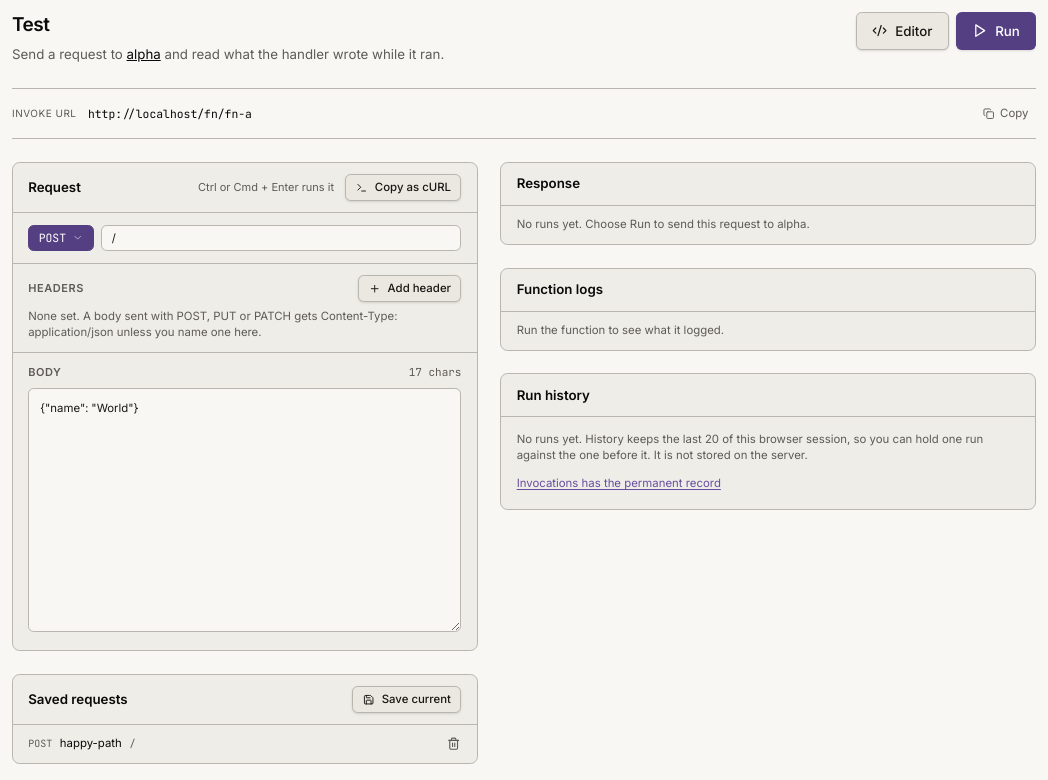
TestWorkbench › says a transport failure produced no execution record
Click the button "Run" at point(996, 31), box [956,12,1036,50]
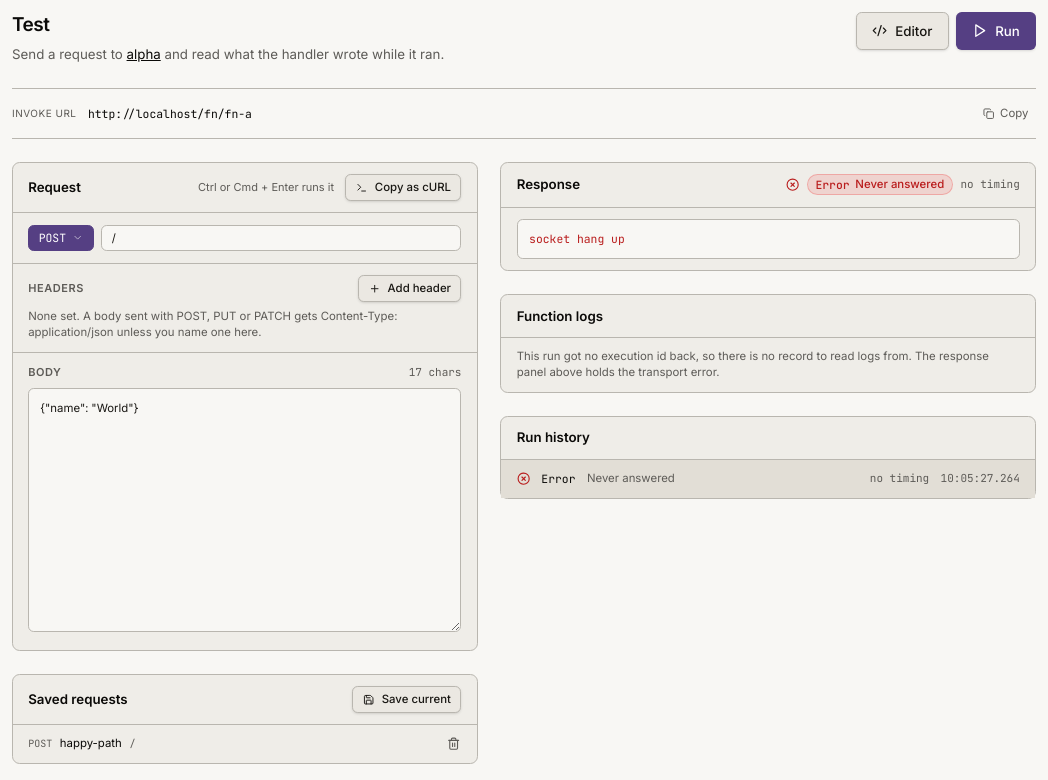
expect the text "socket hang up" is shown: met, box [517,219,1020,259]
expect the text "no execution id back" is shown: met, box [517,349,989,379]
expect the text "Never answered" is shown: met, box [855,177,944,192]
